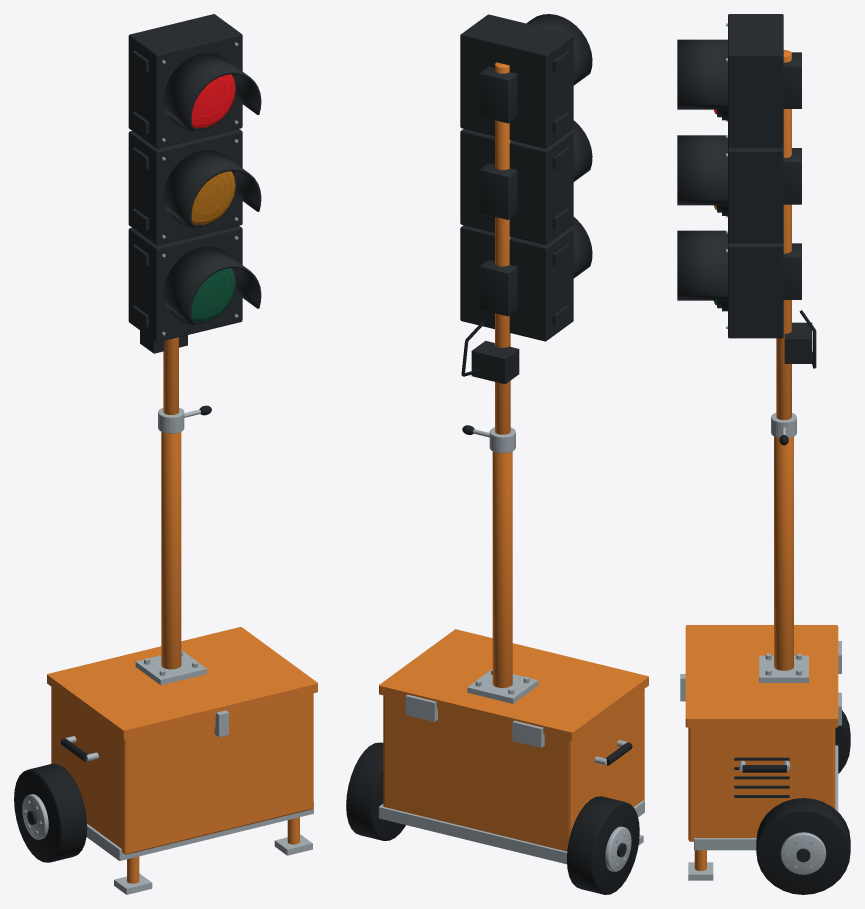
File: portable_vehicle_signal_LOD1.glb
3 views of the same model, side by side, from view 1: azimuth 30°, elevation 25°; view 2: azimuth 150°, elevation 25°; view 3: azimuth 270°, elevation 25° (orthographic).
Parts seen in each view (by area): view 1: Base_control_battery_housing, Base_lid, Red_head_module, Green_head_module, Amber_head_module, Pole_lower_sleeve, Left_wheel_tire, Green_sun_visor, Red_sun_visor, Amber_sun_visor, Amber_lens, Red_lens (+5 smaller); view 2: Base_control_battery_housing, Base_lid, Red_head_module, Amber_head_module, Green_head_module, Pole_lower_sleeve, Left_wheel_tire, Right_wheel_tire, Pole_upper_mast, Base_chassis, Red_rear_mast_saddle, Green_rear_mast_saddle (+9 smaller); view 3: Base_lid, Base_control_battery_housing, Red_head_module, Right_wheel_tire, Amber_head_module, Green_head_module, Pole_lower_sleeve, Red_sun_visor, Amber_sun_visor, Green_sun_visor, Pole_upper_mast, Right_wheel_hub (+9 smaller).
Boxes of the visible parts, bbox=[...] form: Base_control_battery_housing: bbox=[51, 687, 313, 854]; Base_lid: bbox=[47, 627, 317, 739]; Red_head_module: bbox=[128, 14, 242, 148]; Green_head_module: bbox=[128, 226, 242, 342]; Amber_head_module: bbox=[128, 129, 242, 245]; Pole_lower_sleeve: bbox=[161, 432, 181, 669]; Left_wheel_tire: bbox=[14, 763, 87, 862]; Green_sun_visor: bbox=[163, 246, 261, 325]; Red_sun_visor: bbox=[163, 53, 261, 131]; Amber_sun_visor: bbox=[163, 150, 261, 228]; Amber_lens: bbox=[191, 171, 235, 224]; Red_lens: bbox=[191, 74, 235, 128]; Base_control_battery_housing: bbox=[383, 689, 644, 851]; Base_lid: bbox=[379, 629, 648, 741]; Red_head_module: bbox=[460, 14, 573, 148]; Amber_head_module: bbox=[460, 129, 573, 244]; Green_head_module: bbox=[460, 225, 573, 341]; Pole_lower_sleeve: bbox=[492, 451, 512, 687]; Left_wheel_tire: bbox=[567, 796, 639, 894]; Right_wheel_tire: bbox=[346, 742, 405, 840]; Pole_upper_mast: bbox=[495, 62, 510, 434]; Base_chassis: bbox=[378, 800, 644, 864]; Red_rear_mast_saddle: bbox=[479, 66, 517, 123]; Green_rear_mast_saddle: bbox=[479, 259, 517, 316]; Base_lid: bbox=[685, 625, 838, 727]; Base_control_battery_housing: bbox=[688, 727, 835, 841]; Red_head_module: bbox=[728, 14, 783, 147]; Right_wheel_tire: bbox=[756, 798, 850, 894]; Amber_head_module: bbox=[728, 146, 783, 242]; Green_head_module: bbox=[728, 242, 783, 338]; Pole_lower_sleeve: bbox=[774, 436, 793, 670]; Red_sun_visor: bbox=[677, 39, 727, 109]; Amber_sun_visor: bbox=[677, 135, 727, 205]; Green_sun_visor: bbox=[677, 230, 727, 300]; Pole_upper_mast: bbox=[776, 50, 791, 419]; Right_wheel_hub: bbox=[780, 832, 826, 874].
Bounding box in the file's own units: 1.07 × 3.19 × 0.625.
